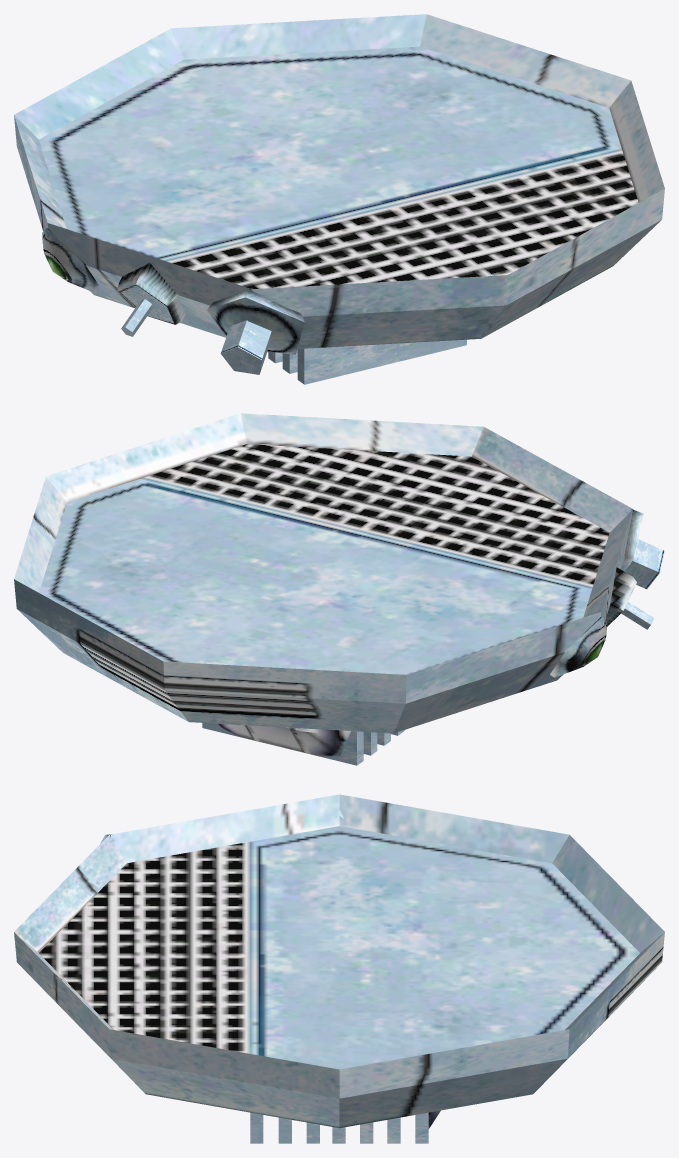
File: eqp_tool_hover_crate_transport_l0.fbx
The picture shows the model from 3 angles, top to bottom: view 1: azimuth 30°, elevation 25°; view 2: azimuth 150°, elevation 25°; view 3: azimuth 270°, elevation 25°; orthographic projection. The views are drawn at different scales.
Parts seen in each view (by area): view 1: mesh_node; view 2: mesh_node; view 3: mesh_node.
Boxes of the visible parts, x1,y1,x2,y2 form: mesh_node: [14, 14, 664, 384]; mesh_node: [14, 413, 664, 765]; mesh_node: [14, 794, 664, 1143].
Bounding box in the file's own units: 1.21 × 0.3542 × 1.2.
